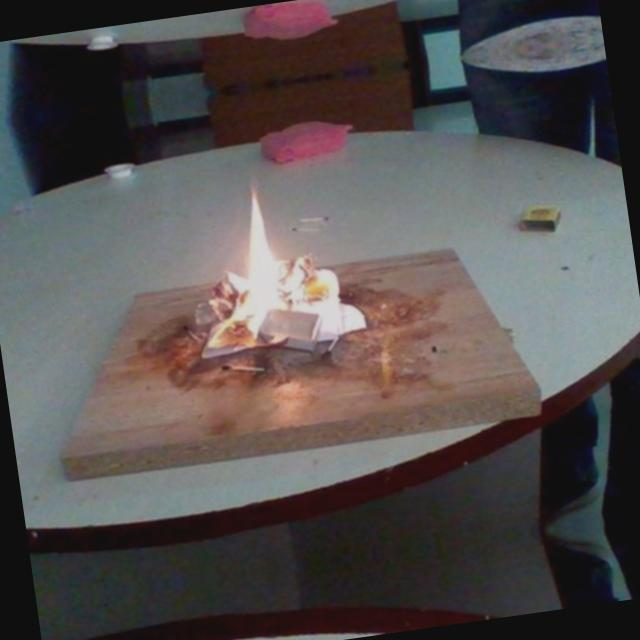fire: (180, 143, 377, 403)
